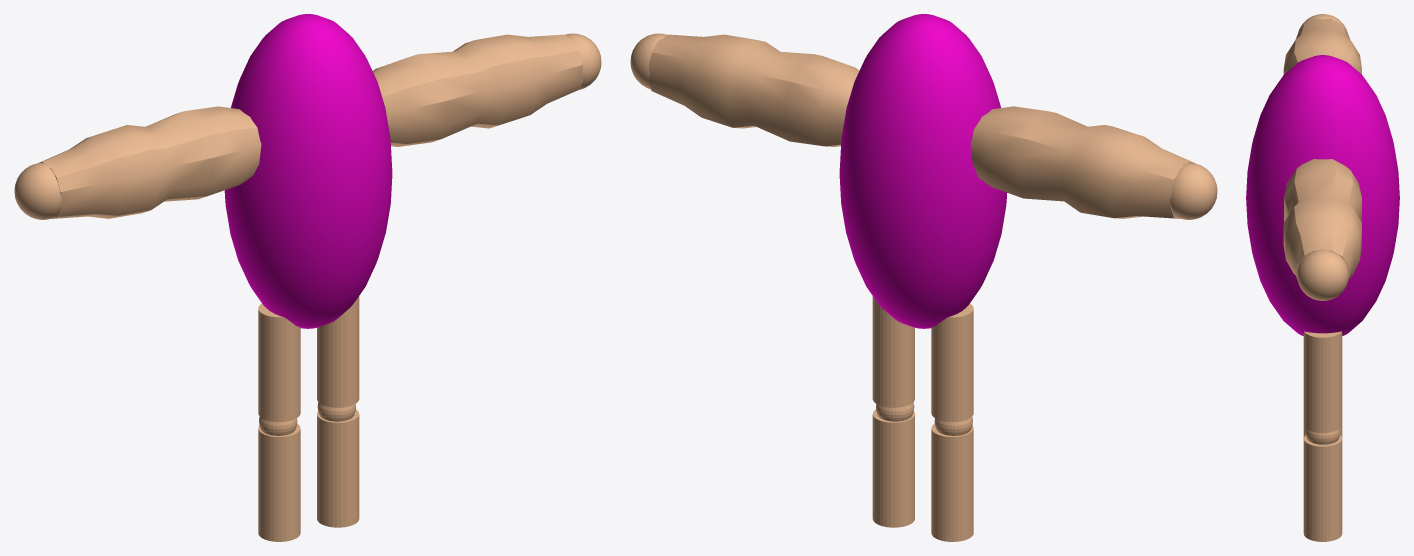
Rendered from Beanyphis.fbx.
The picture shows the model from 3 angles, left to right: view 1: azimuth 30°, elevation 25°; view 2: azimuth 150°, elevation 25°; view 3: azimuth 270°, elevation 25°; orthographic projection. The views are drawn at different scales.
Parts seen in each view (by area): view 1: Bean, Right.Arm, Left.Arm, Left.Leg.Lower, Right.Leg,Lower, Right.Leg.Upper, Left.Leg.Upper, Right.Hand, Left.Hand; view 2: Bean, Right.Arm, Left.Arm, Left.Leg.Lower, Right.Leg,Lower, Right.Leg.Upper, Left.Leg.Upper, Right.Hand, Left.Hand; view 3: Bean, Left.Arm, Left.Leg.Upper, Left.Leg.Lower, Right.Arm, Left.Hand, Left.Knee.
Boxes of the visible parts, x1,y1,x2,y2 form: Bean: (224,14,392,328); Right.Arm: (38,106,261,218); Left.Arm: (372,34,582,146); Left.Leg.Lower: (317,409,359,527); Right.Leg,Lower: (258,423,300,541); Right.Leg.Upper: (258,303,300,422); Left.Leg.Upper: (317,296,359,407); Right.Hand: (14,163,61,219); Left.Hand: (565,33,601,89); Bean: (839,14,1006,328); Right.Arm: (970,106,1195,218); Left.Arm: (649,34,859,146); Left.Leg.Lower: (872,409,914,527); Right.Leg,Lower: (931,423,973,541); Right.Leg.Upper: (931,303,973,422); Left.Leg.Upper: (872,296,914,407); Right.Hand: (1170,163,1217,219); Left.Hand: (630,33,666,89); Bean: (1246,55,1399,335); Left.Arm: (1283,159,1361,291); Left.Leg.Upper: (1303,331,1342,432); Left.Leg.Lower: (1303,435,1342,541); Right.Arm: (1283,18,1361,74); Left.Hand: (1297,249,1348,300); Left.Knee: (1305,429,1340,444).
Size of the model in its own units: 791 by 662 by 200.
